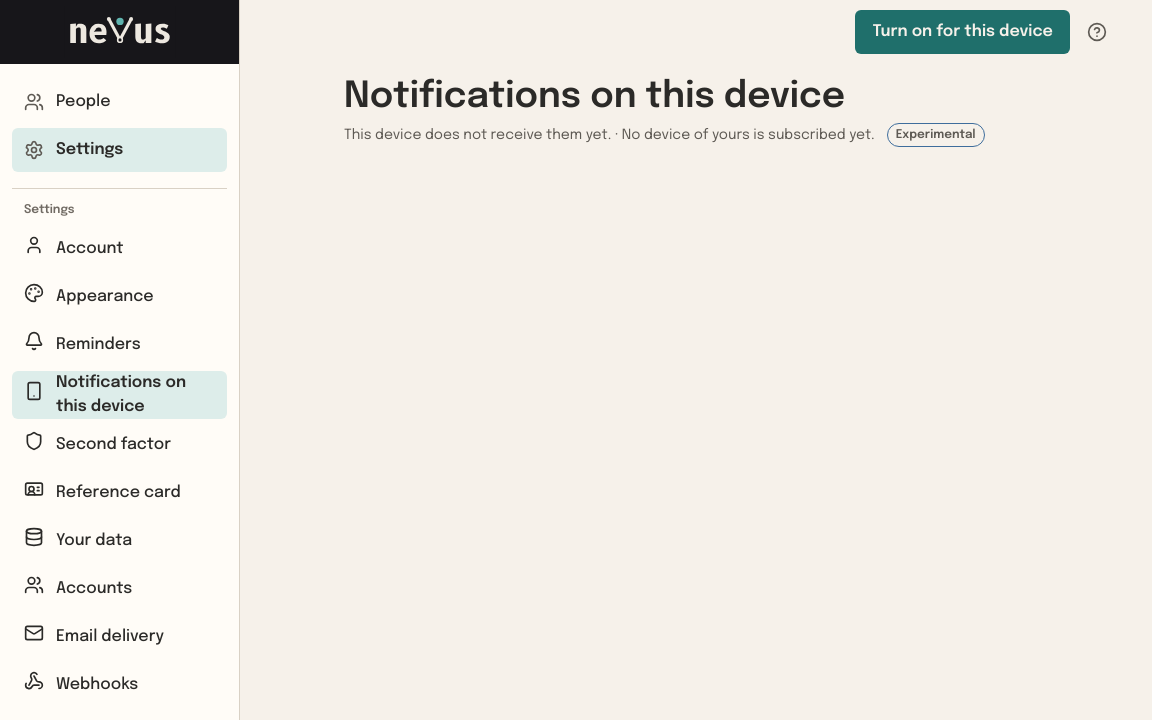
Test case: notifications on this device › subscribes this device with the server's key, sends a test, and unsubscribes
The width and height of the screenshot is (1152, 720).
Expected: the text "No device of yours is subscribed yet" is shown, [344, 128, 875, 142]
Step 1. Click the button "Turn on for this device" → (963,32), box [855, 10, 1070, 54]
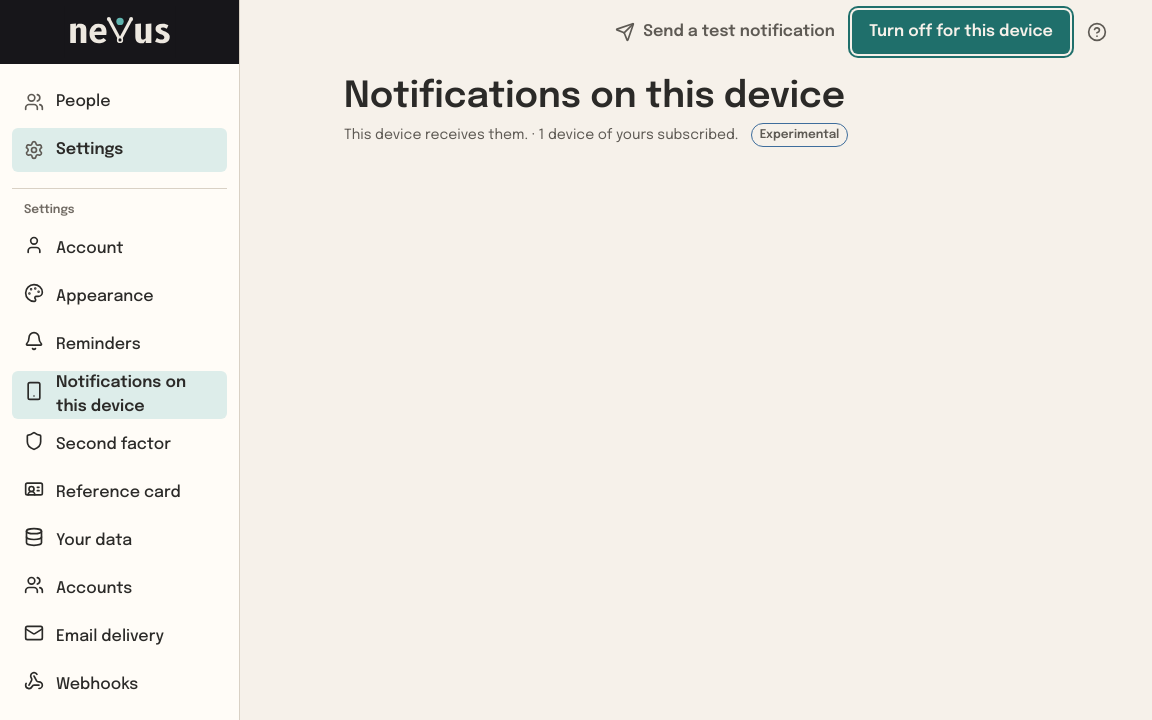
Expected: the text "1 device of yours subscribed" is shown, [344, 128, 738, 142]
Step 2. Click the button "Send a test notification" → (725,32), box [602, 10, 848, 54]
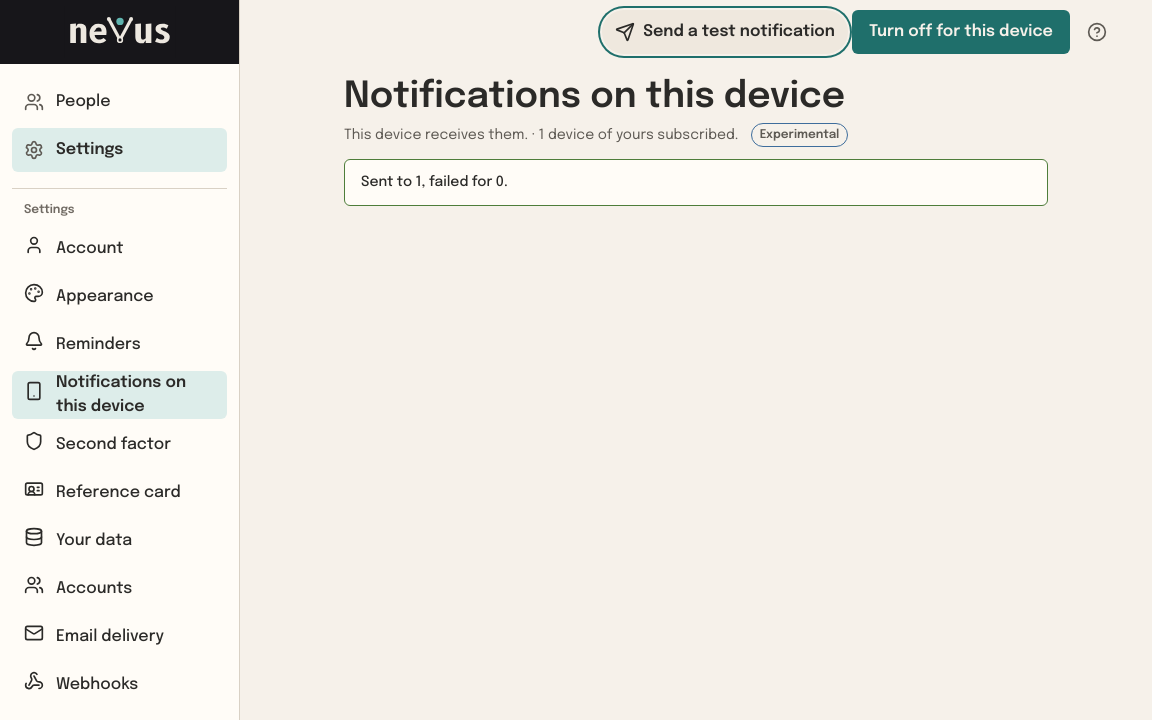
Expected: the text "Sent to 1, failed for 0." is shown, [344, 159, 1048, 206]
Step 3. Click the button "Turn off for this device" → (961,32), box [852, 10, 1070, 54]
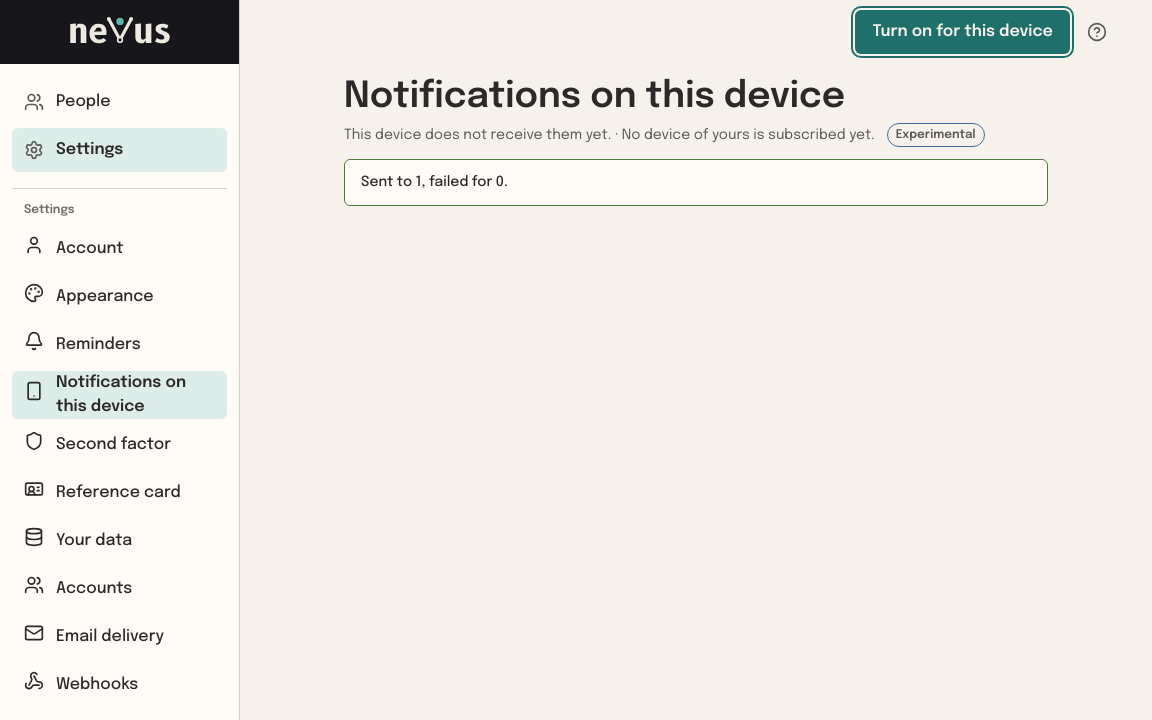
Expected: the text "This device does not receive them yet" is shown, [344, 128, 875, 142]
